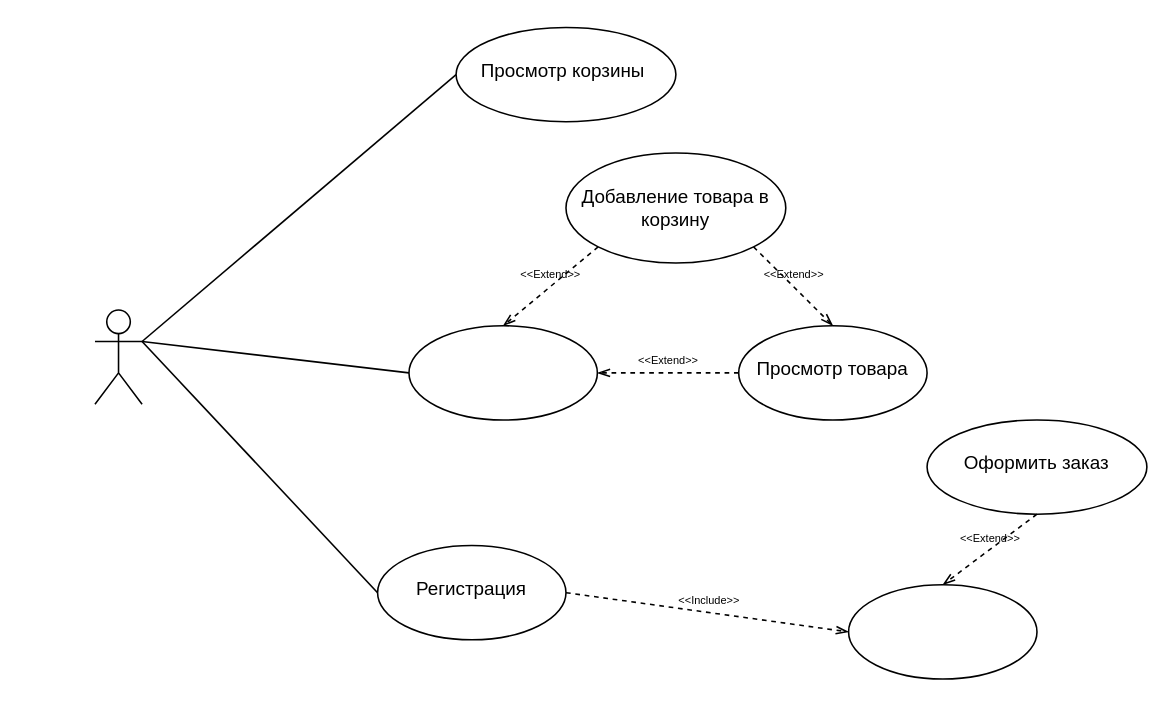
This 1174x707 diagram has some shape labels left out. The shapes that lost their labels are listed below. From the top down, each one's box as (x1, y1, x2, y2) in pixels, then its label:
(93, 309, 142, 404): Actor (Пользователь)
(407, 324, 597, 420): Просмотр каталога
(847, 583, 1037, 679): Войти в систему
